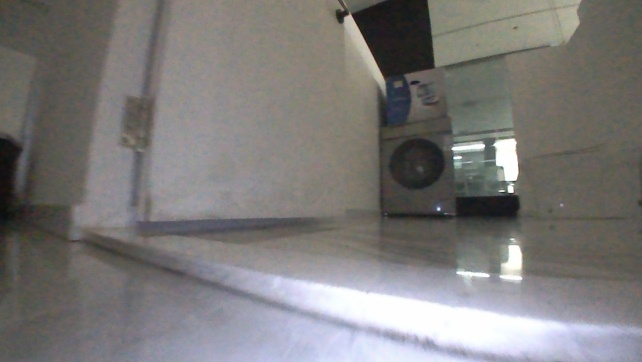toilet: (511, 131, 637, 231)
washing_machine: (368, 113, 461, 223)
